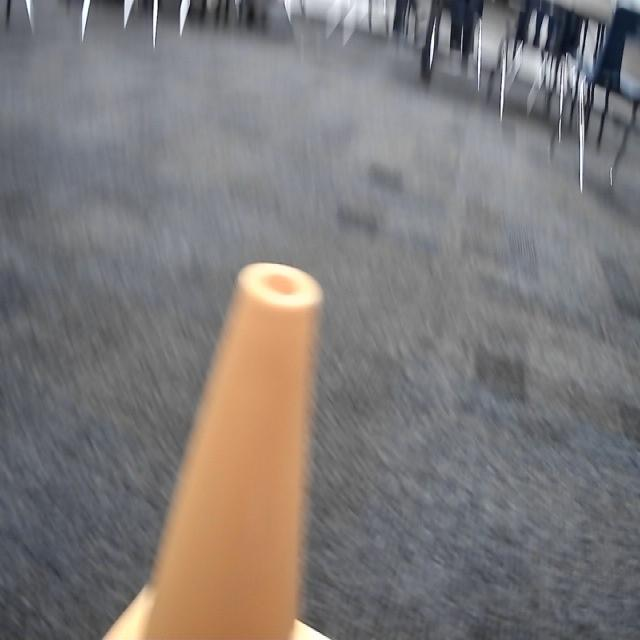cone: (97, 259, 332, 640)
